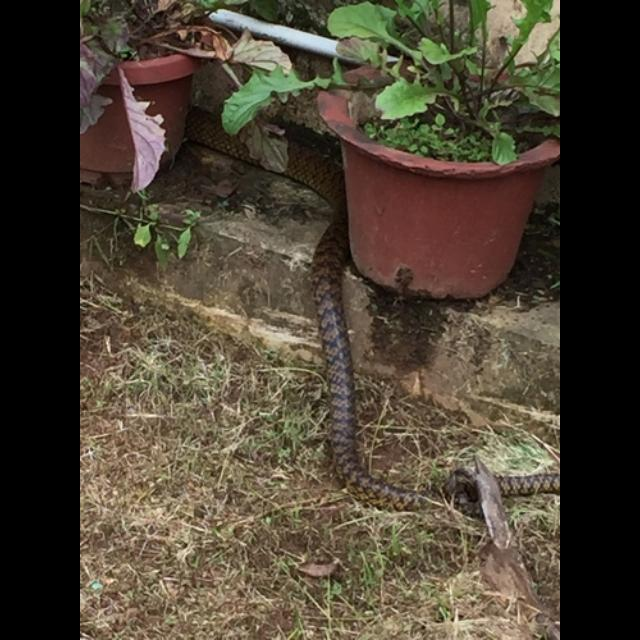snake: (306, 202, 560, 508)
